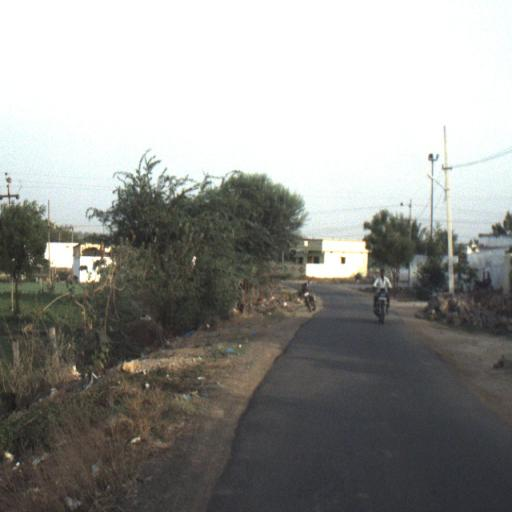street_light_0: (427, 171, 451, 202)
